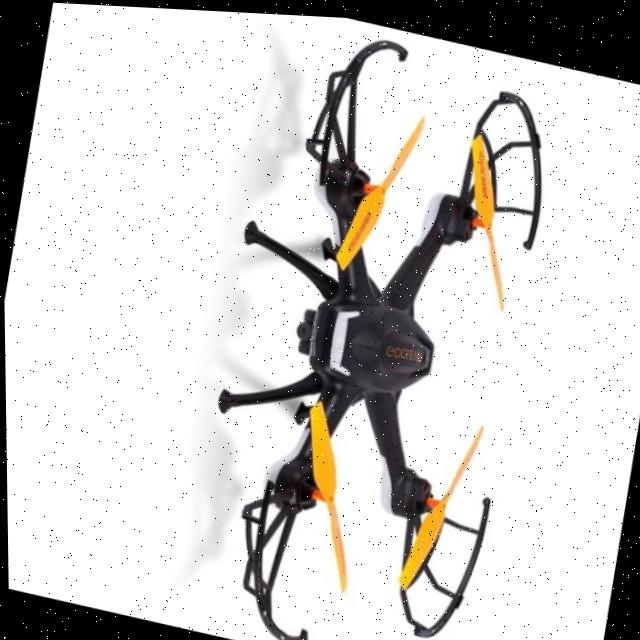drones: (162, 7, 581, 640)
